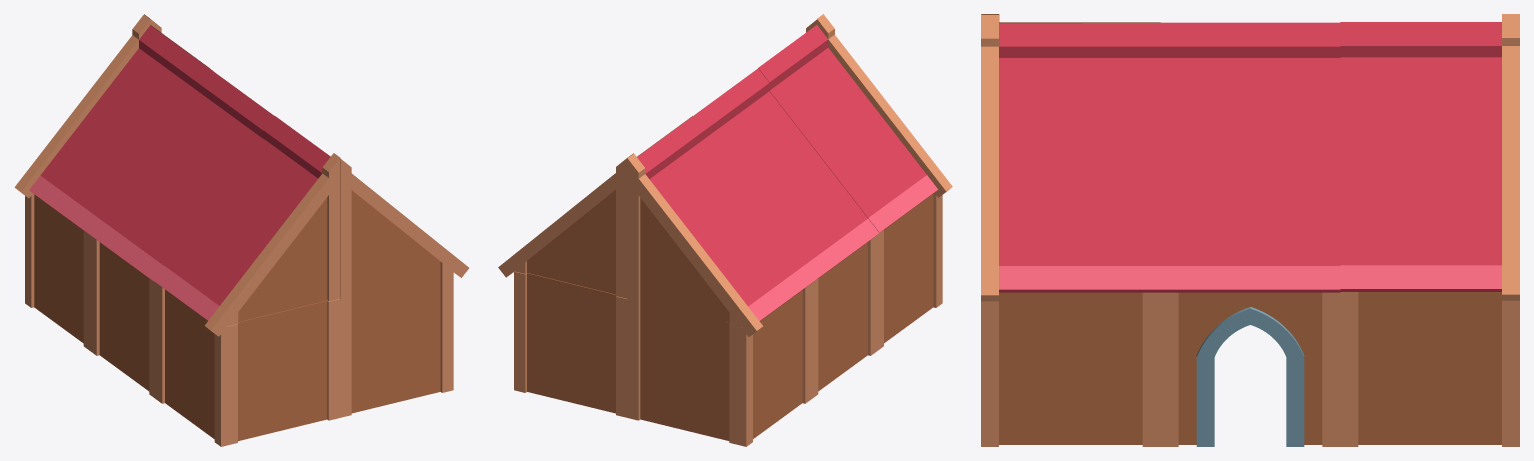
Rendered from house.glb.
The picture shows the model from 3 angles, left to right: view 1: azimuth 30°, elevation 25°; view 2: azimuth 150°, elevation 25°; view 3: azimuth 270°, elevation 25°; orthographic projection. The views are drawn at different scales.
Parts seen in each view (by area): view 1: roofHighRight.001, roofHighLeft.001, roofHigh.001, wallWood.003, wallWood, roofHighLeft, wallWood.007, wallWood.008, wallWood.006, wallWood.001; view 2: roofHighLeft.001, roofHighRight.001, roofHigh.001, wallWood.005, wallWood.004, roofHighRight, wallWood.006, wallWood.008, wallWood.007, wallWood.002; view 3: roofHigh, roofHighLeft, roofHighRight, wallWood.001, wallWood.002, wallWoodDoorwayRound, wallWood.005, wallWood.
Boxes of the visible parts, x1=… form: roofHighRight.001: x1=153, y1=116, x2=340, y2=336; roofHighLeft.001: x1=14, y1=15, x2=208, y2=232; roofHigh.001: x1=88, y1=68, x2=274, y2=282; wallWood.003: x1=226, y1=299, x2=340, y2=444; wallWood: x1=340, y1=272, x2=453, y2=417; roofHighLeft: x1=340, y1=158, x2=468, y2=299; wallWood.007: x1=155, y1=282, x2=232, y2=446; wallWood.008: x1=90, y1=235, x2=155, y2=398; wallWood.006: x1=25, y1=193, x2=90, y2=350; wallWood.001: x1=440, y1=272, x2=453, y2=392; roofHighLeft.001: x1=627, y1=116, x2=813, y2=336; roofHighRight.001: x1=758, y1=14, x2=952, y2=232; roofHigh.001: x1=693, y1=68, x2=879, y2=280; wallWood.005: x1=514, y1=271, x2=627, y2=417; wallWood.004: x1=627, y1=299, x2=740, y2=443; roofHighRight: x1=498, y1=116, x2=692, y2=298; wallWood.006: x1=735, y1=283, x2=811, y2=446; wallWood.008: x1=812, y1=235, x2=877, y2=398; wallWood.007: x1=877, y1=191, x2=942, y2=350; wallWood.002: x1=514, y1=272, x2=526, y2=392; roofHigh: x1=1160, y1=22, x2=1340, y2=292; roofHighLeft: x1=981, y1=15, x2=1160, y2=301; roofHighRight: x1=1340, y1=14, x2=1519, y2=300; wallWood.001: x1=981, y1=292, x2=1160, y2=446; wallWood.002: x1=1340, y1=292, x2=1519, y2=446; wallWoodDoorwayRound: x1=1160, y1=292, x2=1340, y2=446; wallWood.005: x1=1502, y1=300, x2=1519, y2=446; wallWood: x1=981, y1=301, x2=998, y2=446.
Size of what is drawn, in the model's own units: 2.28 by 2.19 by 3.
